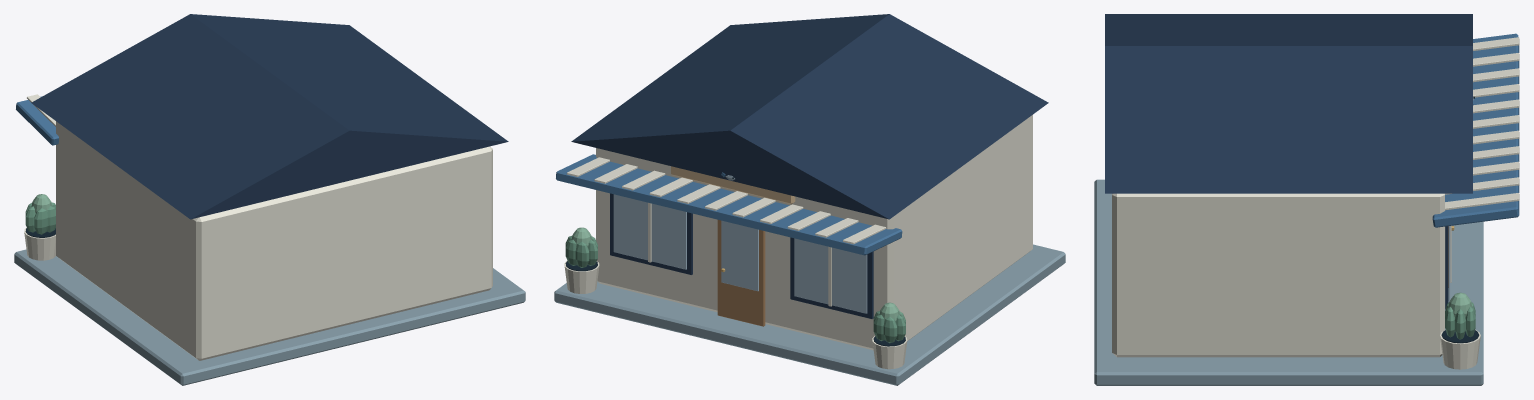
File: restaurant_exterior.glb
3 renders of one model, left to right at view 1: azimuth 30°, elevation 25°; view 2: azimuth 150°, elevation 25°; view 3: azimuth 270°, elevation 25°, orthographic. The views are drawn at different scales.
Parts seen in each view (by area): view 1: main_building, gable_roof, foundation, awning, pot; view 2: gable_roof, main_building, foundation, glass (×2), awning, door, door_glass, shop_window (×2), pot (×2), signboard; view 3: gable_roof, main_building, foundation, awning, awning_stripe (×11), pot, leaf_top.
Part boxes in pixels (box(x1,y1,x2,y2)): main_building: box(56, 121, 492, 360); gable_roof: box(31, 14, 508, 219); foundation: box(14, 249, 525, 385); awning: box(16, 96, 58, 145); pot: box(24, 227, 55, 260); gable_roof: box(571, 14, 1048, 219); main_building: box(596, 115, 1032, 350); foundation: box(554, 244, 1065, 385); glass (×2): box(613, 194, 867, 313); awning: box(556, 154, 902, 255); door: box(717, 220, 765, 326); door_glass: box(721, 220, 758, 291); shop_window (×2): box(610, 193, 873, 318); pot (×2): box(564, 260, 907, 369); signboard: box(671, 166, 795, 204); gable_roof: box(1105, 14, 1472, 193); main_building: box(1112, 193, 1444, 357); foundation: box(1094, 179, 1483, 385); awning: box(1432, 33, 1519, 227); awning_stripe (×11): box(1445, 37, 1519, 210); pot: box(1440, 329, 1480, 369); leaf_top: box(1448, 292, 1472, 317).
Size of the model in its own units: 6.5 by 3.8 by 6.01.
